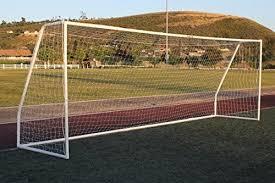goal: (61, 18, 264, 162)
